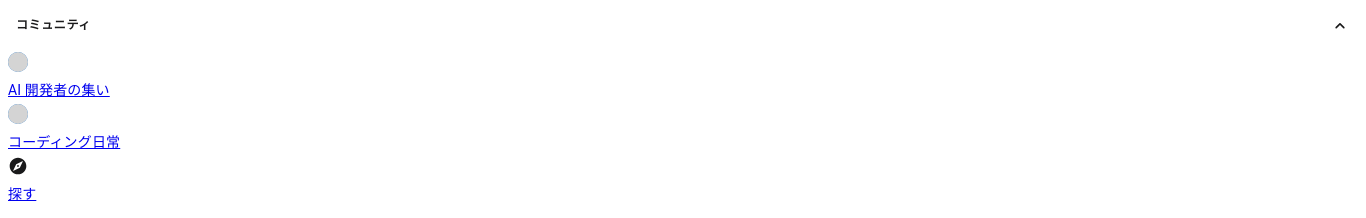
Test: SidebarCommunitySection › 見出しクリックで折りたたまれ、本体が非マウントになり aria-expanded が false になる
Expected: the text "AI 開発者の集い" is shown, [8, 80, 110, 100]
What coordinates should you click on to do the following:
click the button "コミュニティ"
I would click on:
 (53, 25)
Its box is [16, 16, 1350, 36].
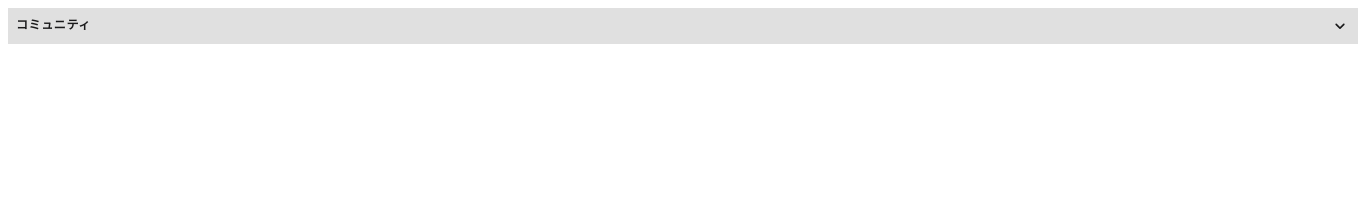
Result: the link "AI 開発者の集い" is gone
Result: the link "コーディング日常" is gone
Result: the link "探す" is gone
